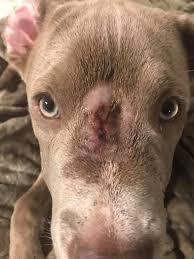cut: (61, 85, 141, 176)
